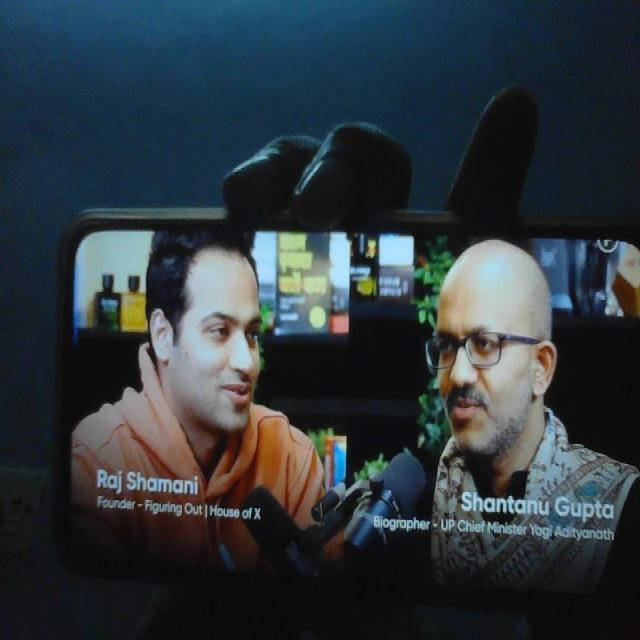fake: (144, 200, 274, 447), (421, 222, 550, 466)
